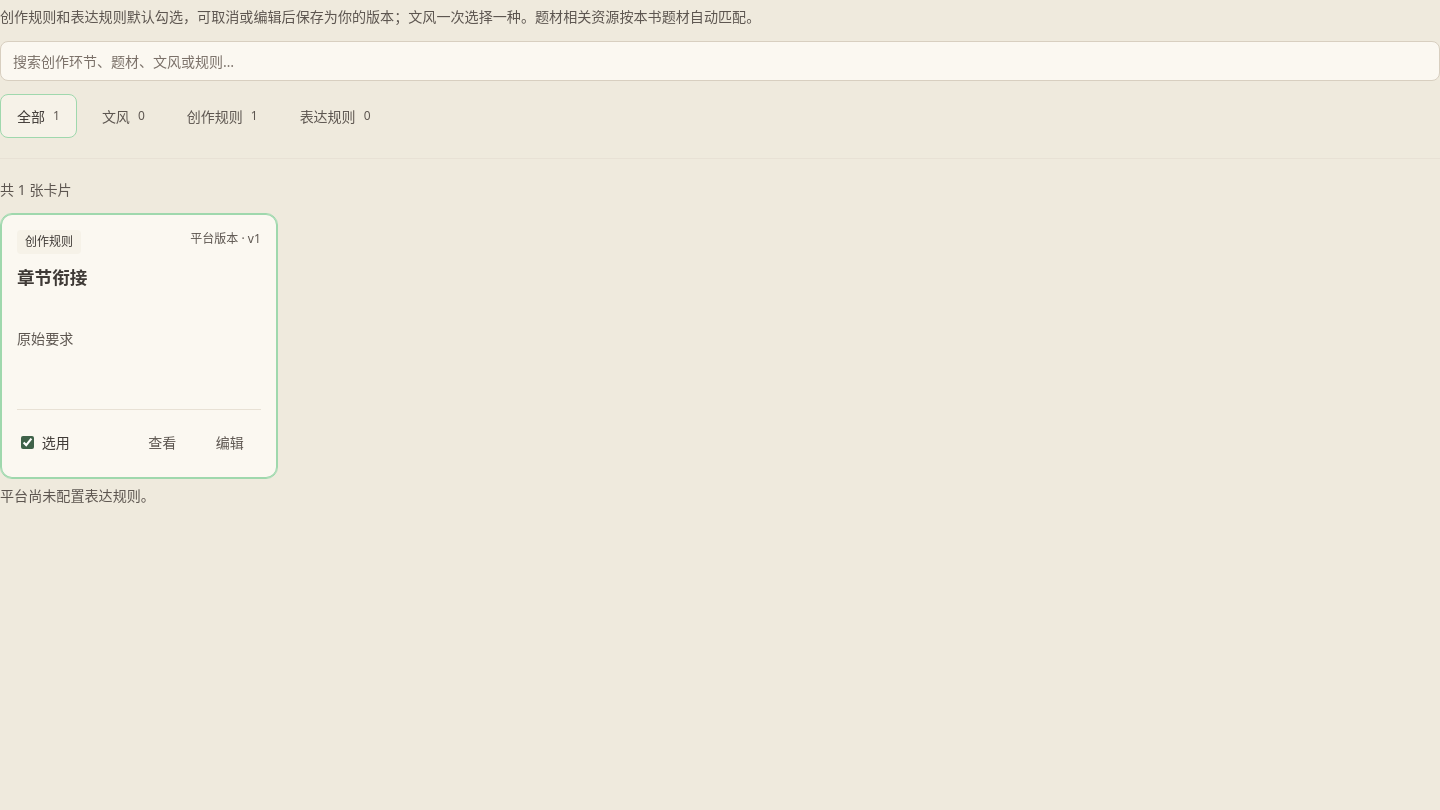
Test: saves a platform edit as a linked personal version
Click the button with aria-label "编辑 章节衔接" at (230, 442), box top-left (199, 422), bottom-right (261, 462)
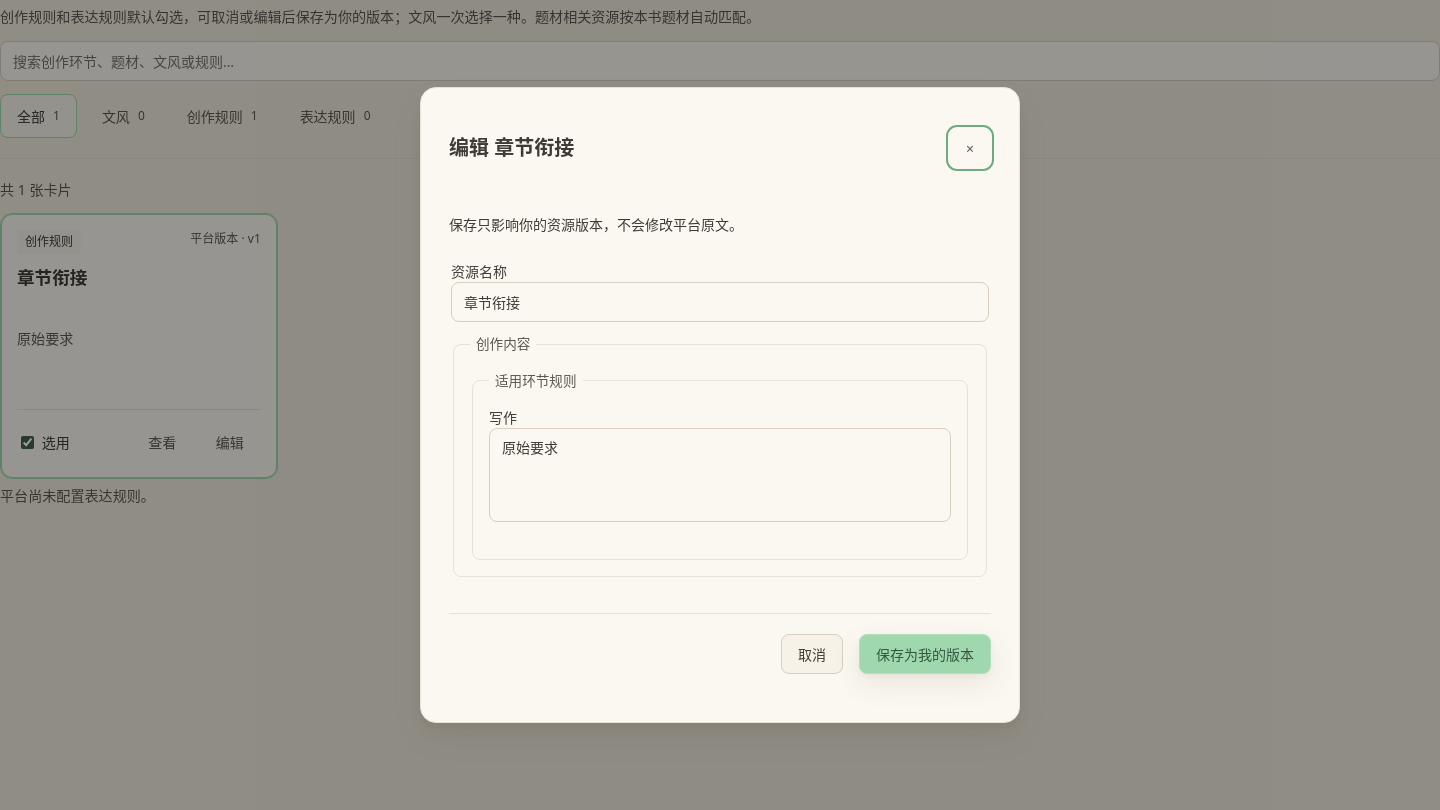
Click the button "保存为我的版本" at (925, 654), box top-left (859, 634), bottom-right (991, 674)
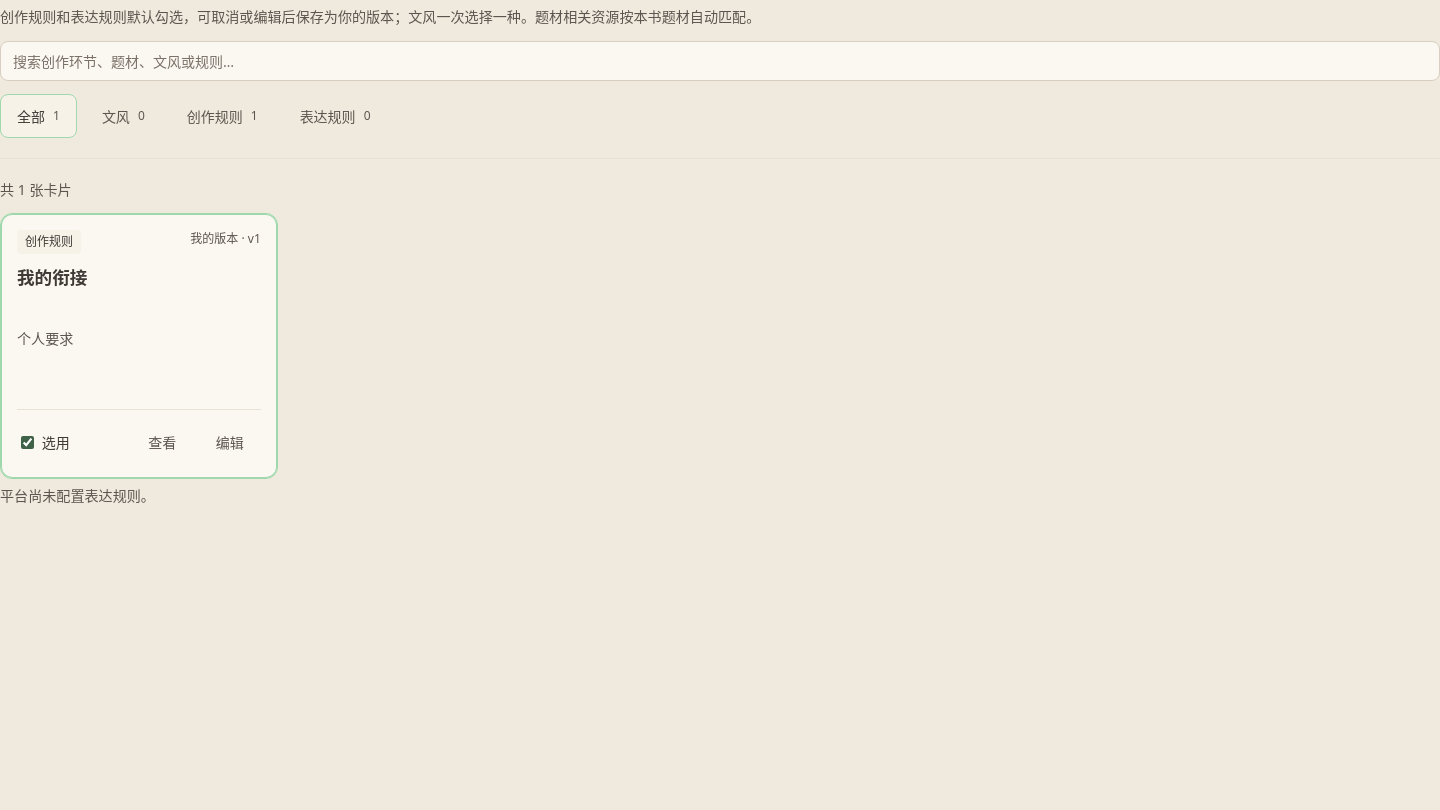
Check: the checkbox named "选用 我的衔接" is shown, box top-left (21, 436), bottom-right (34, 448)
